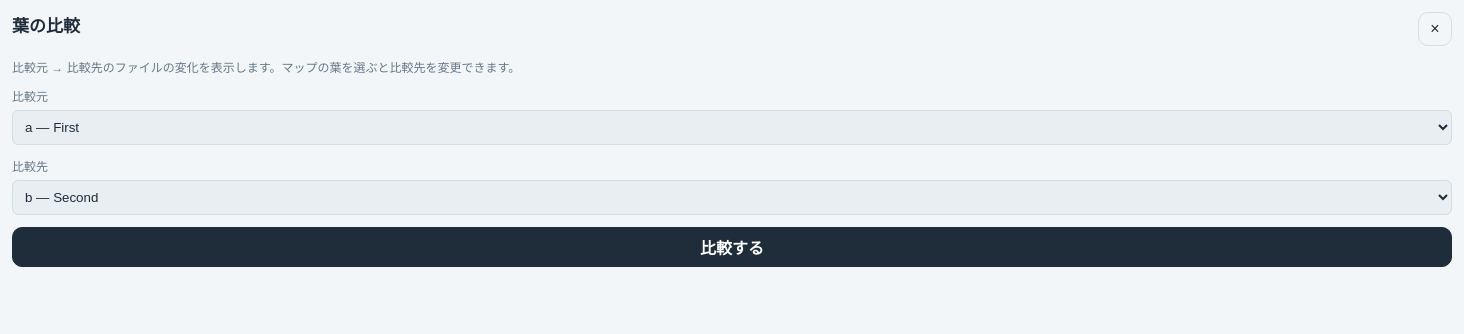
Scenario: retains targets on errors and can retry
Click the button "比較する" at x=732, y=247, box [12,227,1452,267]
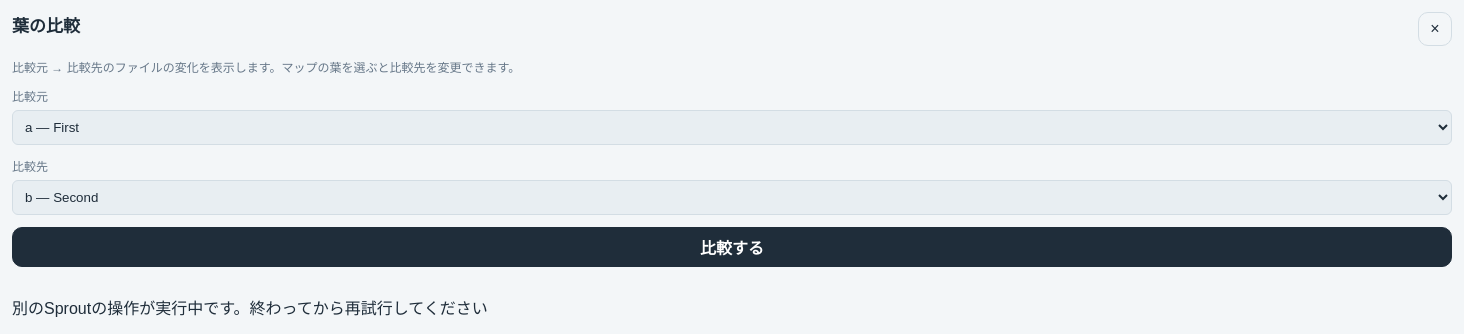
Check: the dropdown labelled "比較先" shows "b — Second", box [12,180,1452,215]
Check: the text "別のSproutの操作が実行中です。終わってから再試行してください" is shown, box [12,300,488,317]
Click the button "比較する" at x=732, y=247, box [12,227,1452,267]
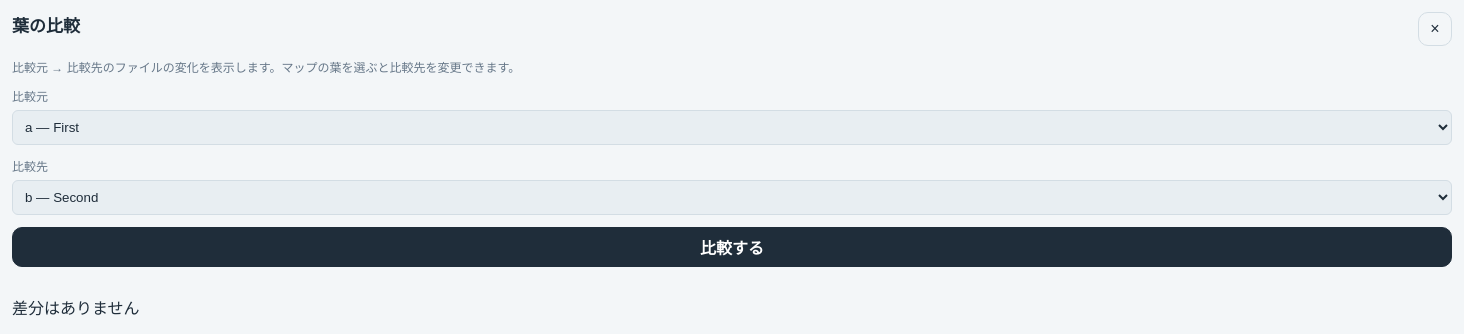
Check: the text "差分はありません" is shown, box [12,300,140,317]
